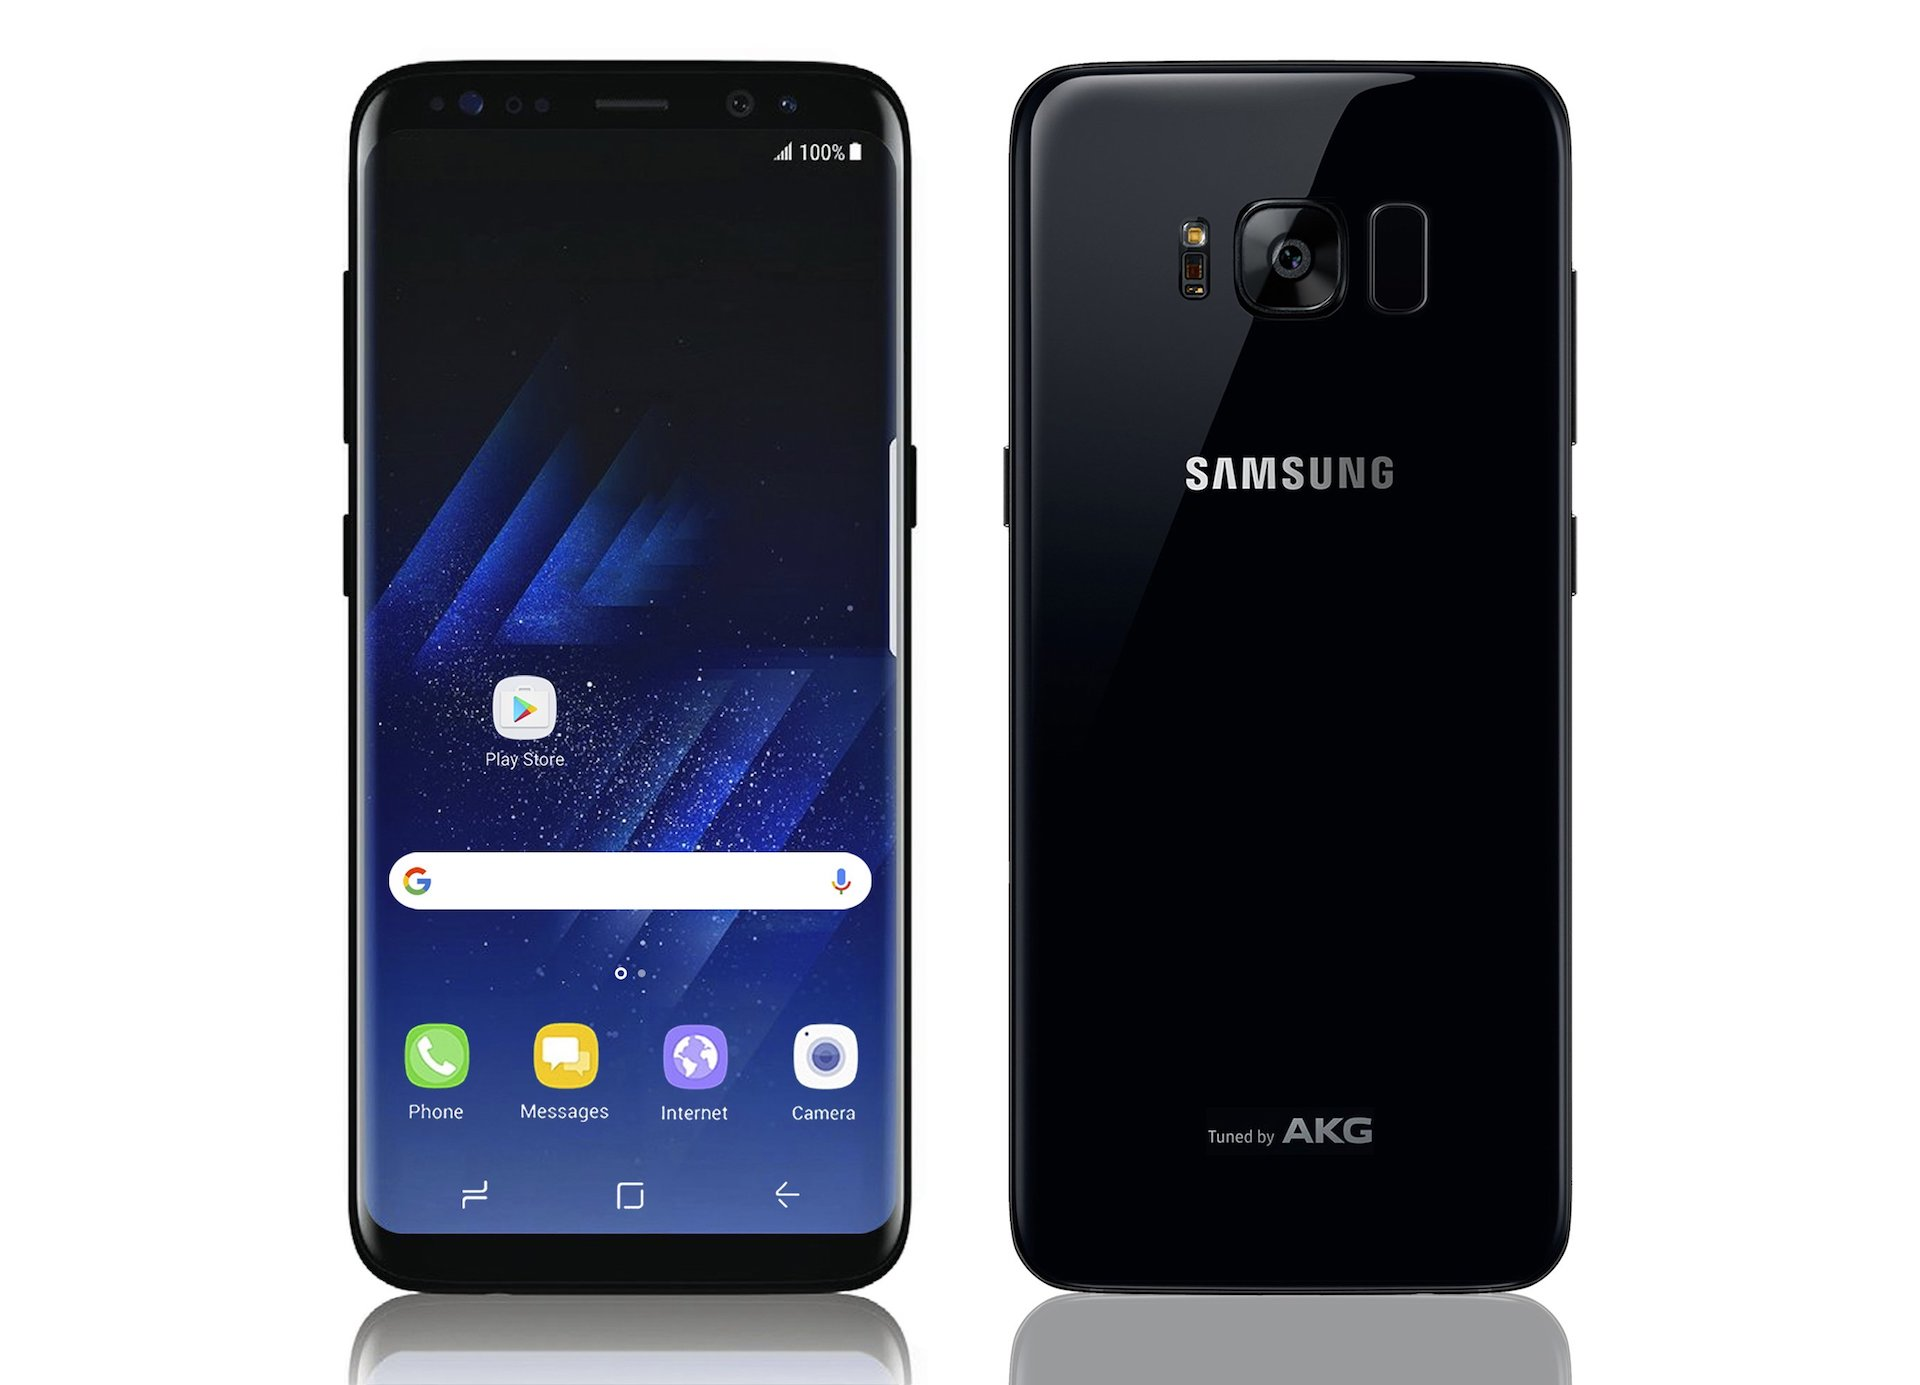smartphone: (338, 57, 920, 1302), (1002, 57, 1582, 1302)
